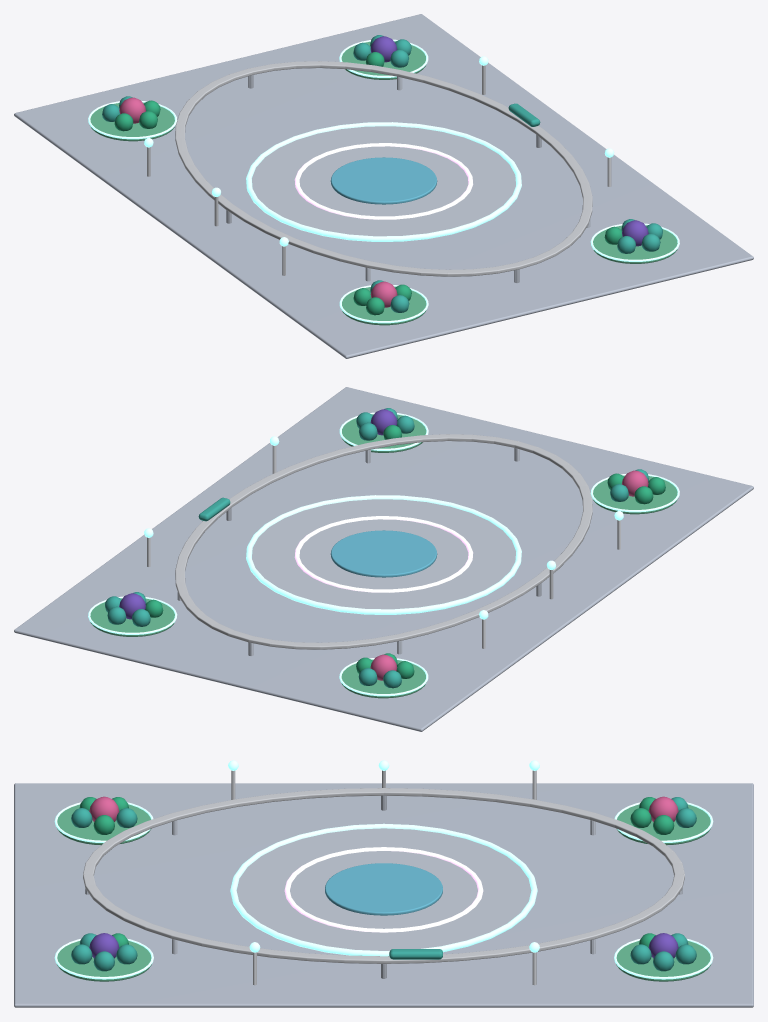
The model's file is centre.glb.
3 views of the same model, one above another, from view 1: azimuth 30°, elevation 25°; view 2: azimuth 150°, elevation 25°; view 3: azimuth 270°, elevation 25° (orthographic). The views are drawn at different scales.
Visible parts, largest first — view 1: Cube; view 2: Cube; view 3: Cube.
Part boxes in pixels (box(x1,y1,x2,y2)): Cube: box(14, 14, 753, 358); Cube: box(14, 387, 753, 731); Cube: box(14, 760, 753, 1007).
Size of the model in its own units: 4.88 by 0.47 by 6.88.
